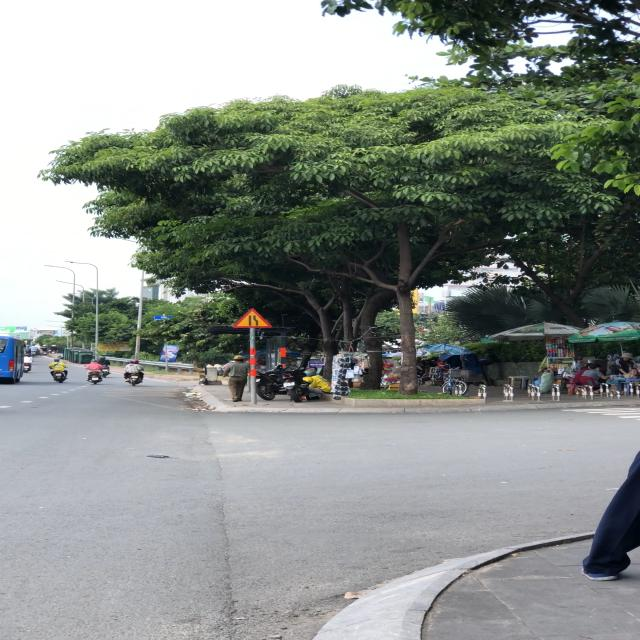Bien bao duong bi thu hep: (228, 308, 275, 328)
